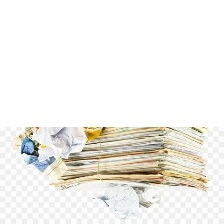news_paper: (51, 125, 215, 195), (9, 125, 103, 181), (89, 181, 164, 223)
